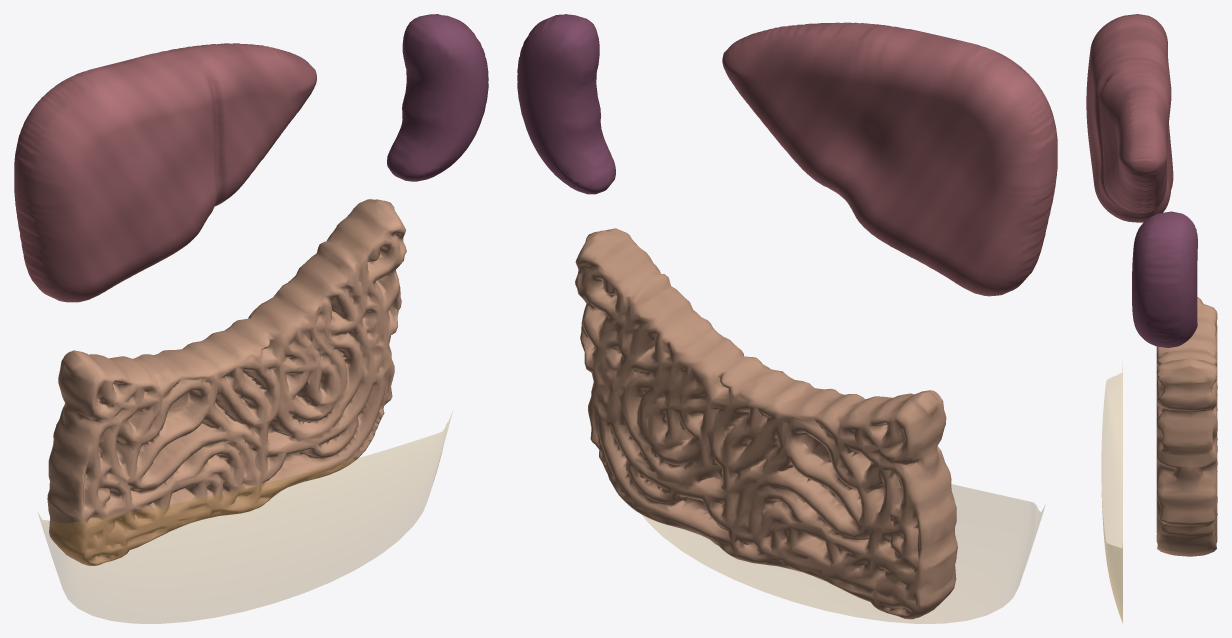
The model's file is organs-budd-chiari.glb.
3 views of the same model, side by side, from view 1: azimuth 30°, elevation 25°; view 2: azimuth 150°, elevation 25°; view 3: azimuth 270°, elevation 25° (orthographic). The views are drawn at different scales.
Parts seen in each view (by area): view 1: bowel, liver, ascites, spleen; view 2: bowel, liver, ascites, spleen; view 3: liver, bowel, spleen, ascites.
Part boxes in pixels (x1,y1,x2,y2): bowel: (47, 199, 406, 565); liver: (14, 43, 316, 302); ascites: (38, 412, 452, 623); spleen: (387, 14, 488, 181); bowel: (575, 228, 957, 619); liver: (722, 22, 1057, 296); ascites: (643, 484, 1044, 623); spleen: (517, 14, 615, 194); liver: (1086, 14, 1173, 222); bowel: (1156, 297, 1217, 556); spleen: (1132, 211, 1197, 347); ascites: (1101, 368, 1122, 623).
Size of the model in its own units: 2.52 by 2.85 by 0.6708.
